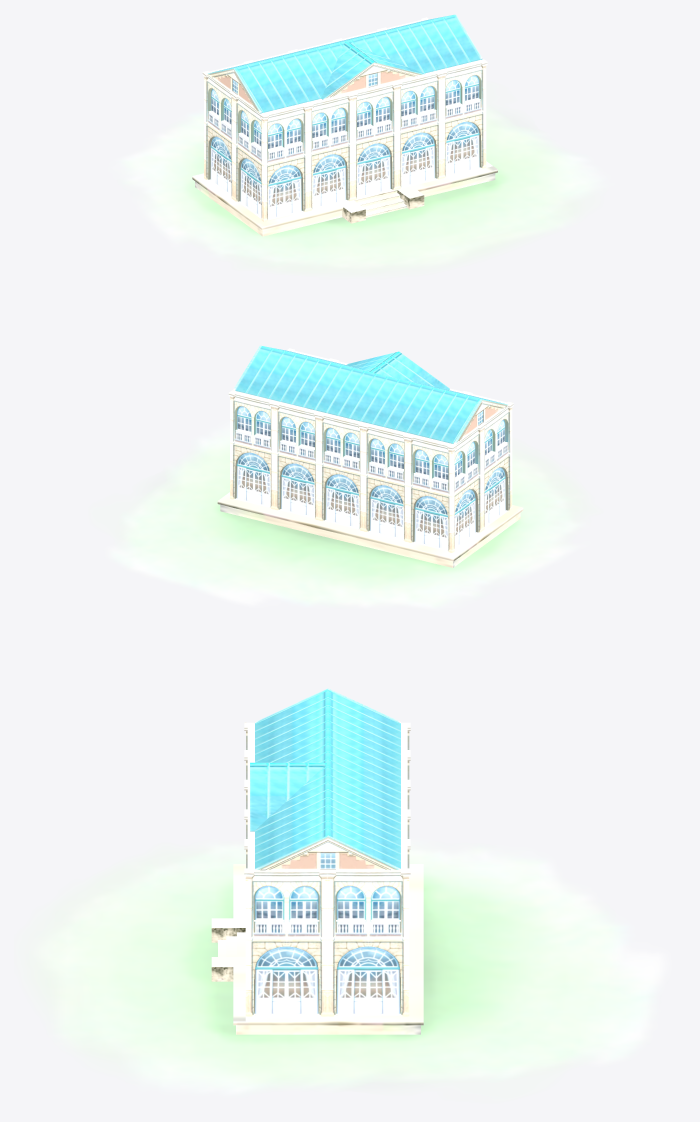
Rendered from scenemansion.gltf.
3 views of the same model, one above another, from view 1: azimuth 30°, elevation 25°; view 2: azimuth 150°, elevation 25°; view 3: azimuth 270°, elevation 25° (orthographic). The views are drawn at different scales.
Visible parts, largest first — view 1: Cube.001; view 2: Cube.001; view 3: Cube.001.
Boxes of the visible parts, <box> form: Cube.001: <box>113,14,607,272</box>; Cube.001: <box>107,345,585,609</box>; Cube.001: <box>29,688,669,1095</box>.
Bounding box in the file's own units: 1477 × 474 × 1477.
Materials: 1 (1 with a texture image).
